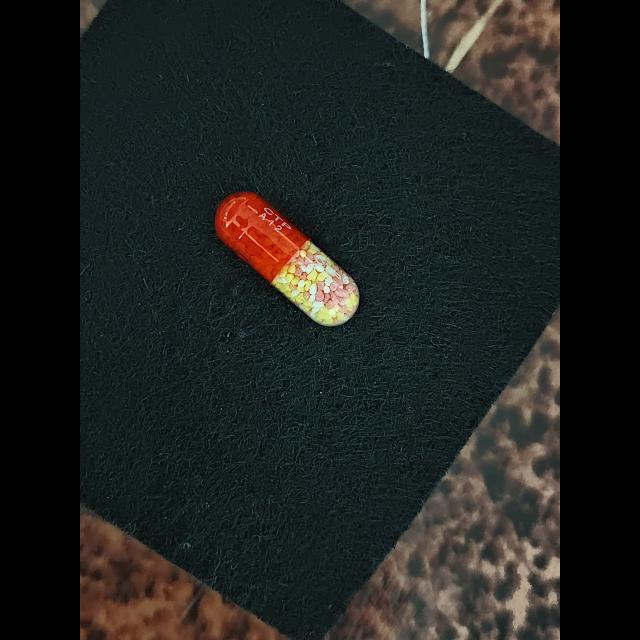Intact Capsule: (215, 191, 360, 326)
